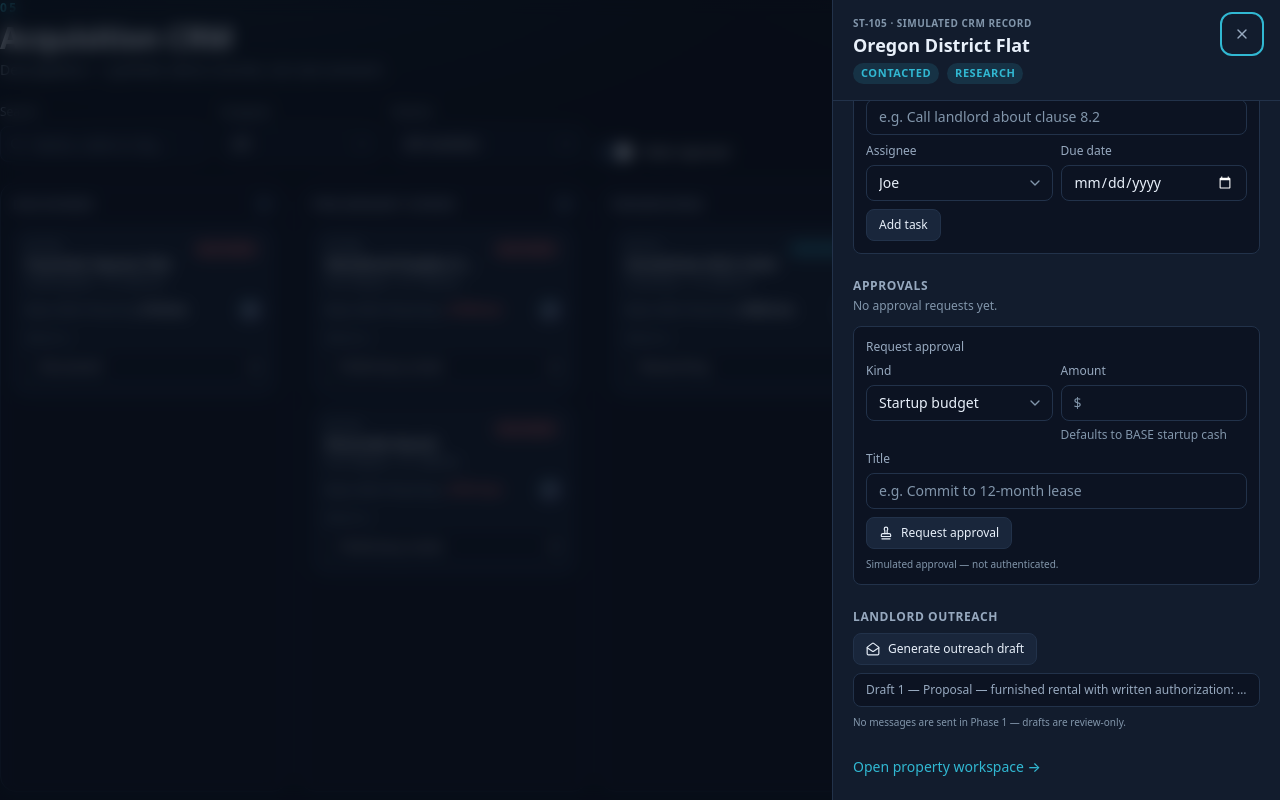
Test: Acquisition CRM — drawer › generates an outreach draft with Phase 1 disclosure and a disabled Send
(page scrolled)
Click the button "Generate outreach draft" at (945, 648), box left=853, top=632, right=1037, bottom=664
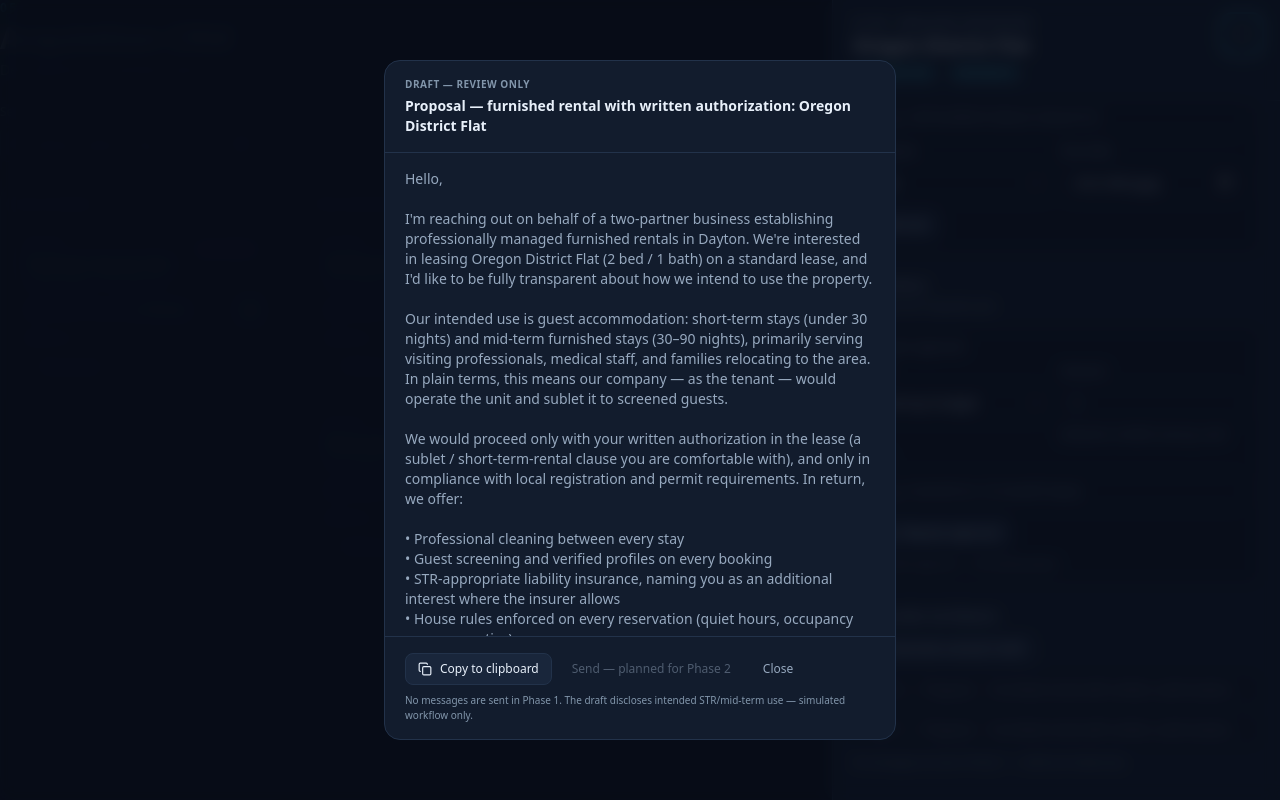
Now the text "No messages are sent in Phase 1" is shown, box left=405, top=693, right=845, bottom=722
Now the button "Send — planned for Phase 2" is disabled, box left=560, top=653, right=743, bottom=685
